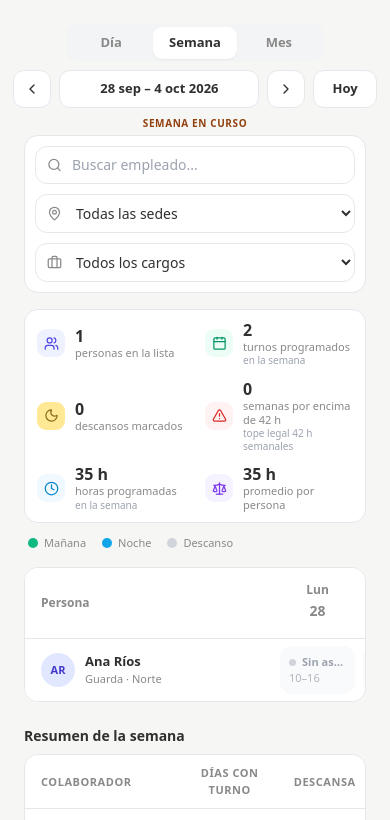
Test case: elegir algo en la tarjeta no escribe: primero lo cuenta › abre la previa y NO ha escrito nada todavía
This screenshot has width=390, height=820.
Click the button with aria-label "marcar la semana de Ana Ríos".
click(150, 670)  # box [41,653,260,687]
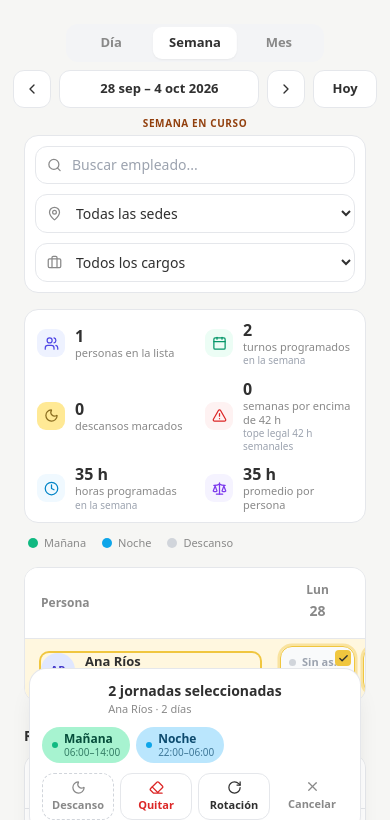
Click the button "Noche 22:00–06:00".
click(180, 745)  # box [136,727,224,762]
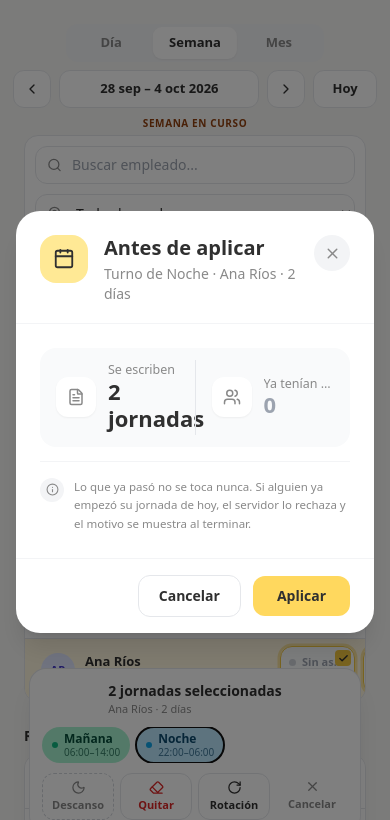
Expected: the dialog "Antes de aplicar" is shown, [16,211,374,633]
